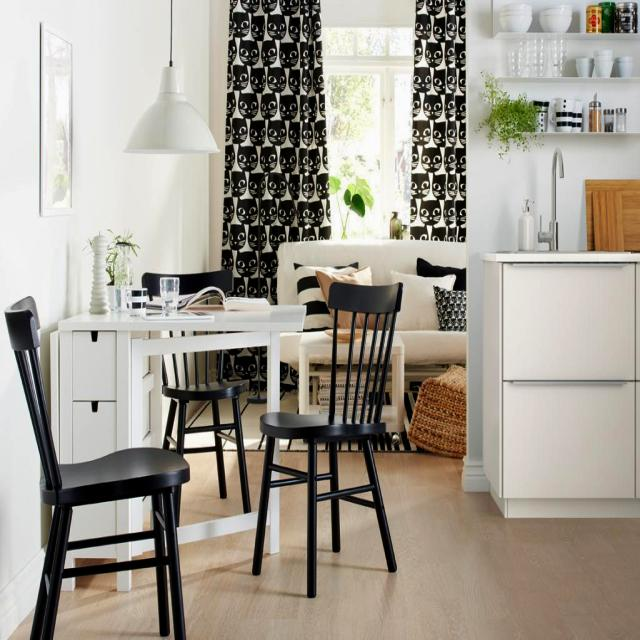obstacle: (1, 283, 404, 640), (476, 241, 640, 542)
